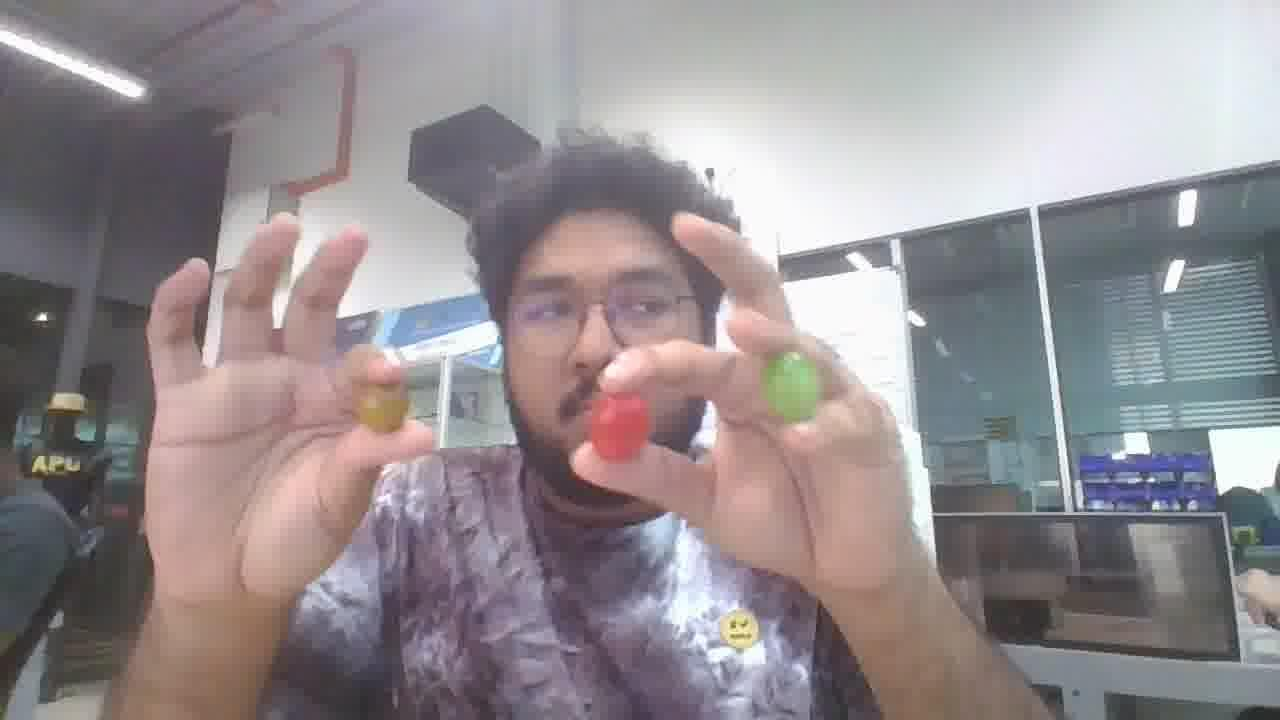green_cherry_tomato: (762, 352, 821, 422)
red_cherry_tomato: (590, 393, 651, 461)
yellow_cherry_tomato: (357, 384, 408, 432)
